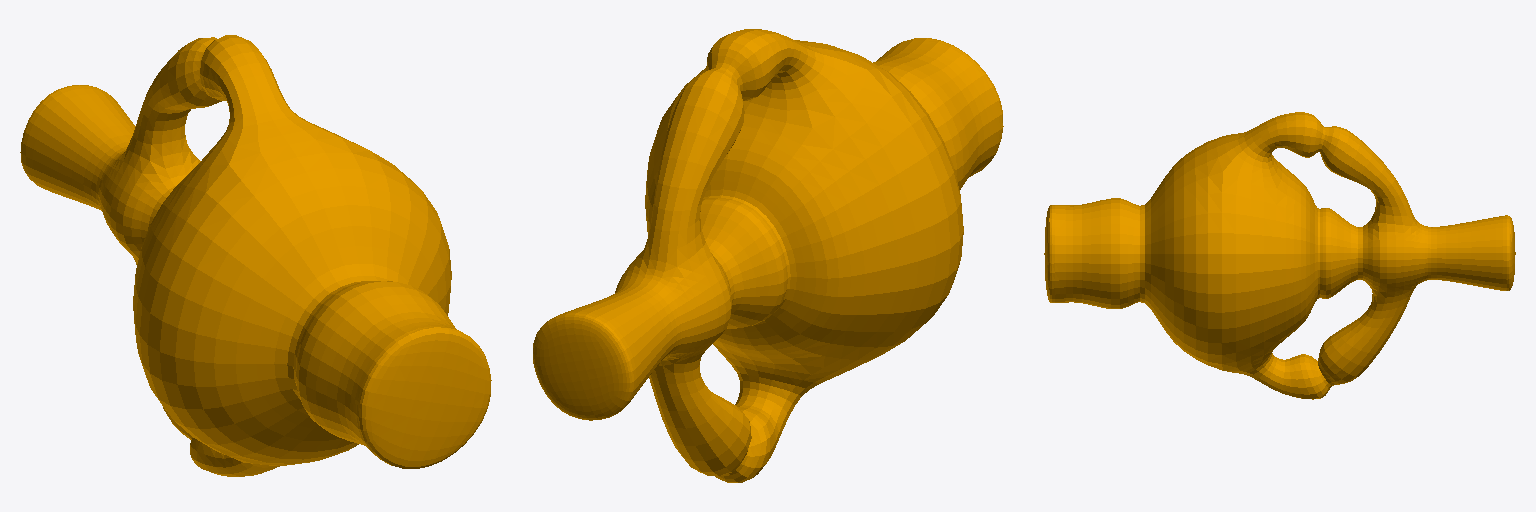
robot.urdf — 186:
<?xml version="1.0" ?>
<robot name="186">
  <link name="body">
    <visual>
      <geometry>
        <mesh filename="../shapes/186.obj"/>
      </geometry>
    </visual>
    <collision>
      <geometry>
        <mesh filename="../shapes/186.obj"/>
      </geometry>
    </collision>
  </link>
</robot>

--- What the picture shows (computed from the rendered views, not written in the file) ---
Views: 3 orthographic renders of the robot side by side, from view 1: azimuth 30°, elevation 25°; view 2: azimuth 150°, elevation 25°; view 3: azimuth 270°, elevation 25°.
Model 186 with 1 links and 0 joints (none), rooted at body, posed all joints at 0.
Visible links, largest first — view 1: body; view 2: body; view 3: body.
Boxes of the visible links, x1=… form: body: x1=20, y1=35, x2=491, y2=476; body: x1=533, y1=29, x2=1003, y2=482; body: x1=1044, y1=112, x2=1515, y2=399.
Size in the robot's own frame: 5.73 by 12.42 by 8.21 metres.
1 mesh visuals loaded from 1 distinct referenced files (1 OBJ).